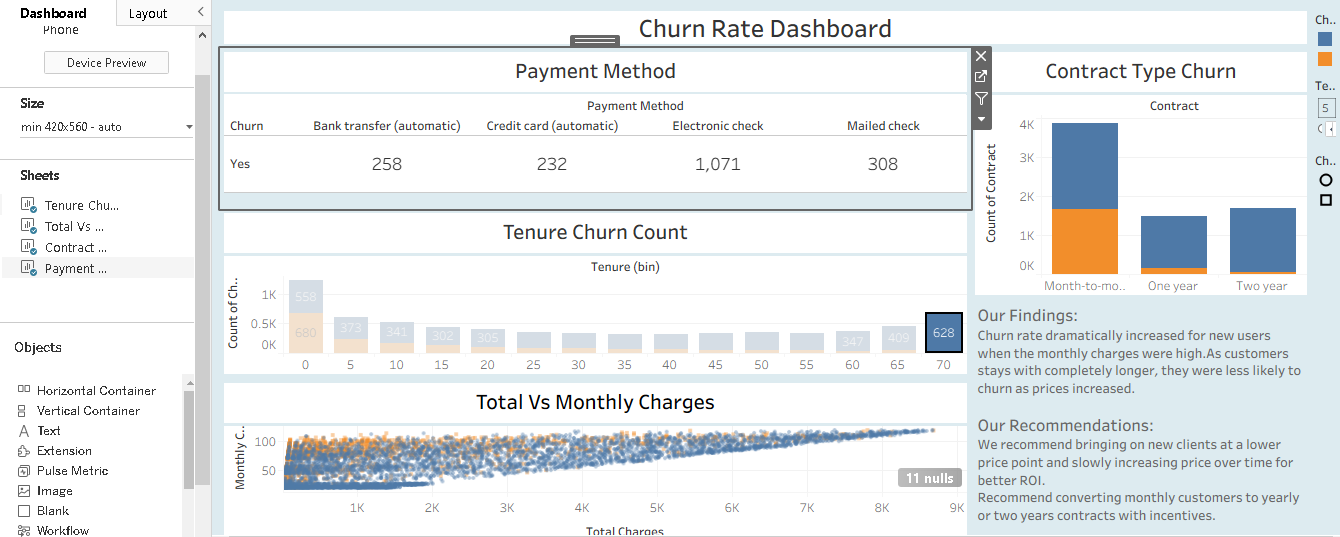

The dashboard page shown, as its layout file describes it:
{"tool":"tableau","page":{"name":"Churn Rate Dashboard","canvas":[1000,1000],"units":"permille","ordinal":0},"visuals":[{"type":"title","box":[10,14.3,939.8,73.2]},{"type":"legend","title":"Contract Type Churn","param":"[federated.07guqms1rf22l3104184n0olif7a].[none:Churn:nk]","box":[949.9,14.3,40.1,117.9]},{"type":"worksheet","title":"Payment Method","mark":"Automatic","rows":["Churn"],"cols":["PaymentMethod"],"box":[10,87.5,646.9,288.1]},{"type":"worksheet","title":"Contract Type Churn","mark":"Automatic","rows":["Contract"],"cols":["Contract"],"box":[657,87.5,292.9,449.1]},{"type":"parameter","param":"[Parameters].[Tenure (bin) Parameter]","box":[949.9,132.2,40.1,133.9]},{"type":"legend","title":"Total Vs Monthly Charges","param":"[federated.07guqms1rf22l3104184n0olif7a].[none:Churn:nk]","box":[949.9,266.1,40.1,117.9]},{"type":"worksheet","title":"Tenure Churn Count","mark":"Automatic","rows":["Churn"],"cols":["Tenure (bin)"],"box":[10,375.6,646.9,302.4]},{"type":"text","box":[657,536.6,292.9,449.1]},{"type":"worksheet","title":"Total Vs Monthly Charges","mark":"Automatic","rows":["MonthlyCharges"],"cols":["TotalCharges"],"box":[10,678,646.9,307.8]}]}

Visuals, with their boxes on the dashboard's canvas, which has no fixed pixel size, in thousandths of its width and height (x1, y1, x2, y2). These are canvas units, not pixel positions in the 1340x537 screenshot, which may show the page scaled, cropped or inside an application window:
title: box=[10, 14, 950, 88]
"Contract Type Churn" legend: box=[950, 14, 990, 132]
"Payment Method" worksheet: box=[10, 88, 657, 376]
"Contract Type Churn" worksheet: box=[657, 88, 950, 537]
parameter: box=[950, 132, 990, 266]
"Total Vs Monthly Charges" legend: box=[950, 266, 990, 384]
"Tenure Churn Count" worksheet: box=[10, 376, 657, 678]
text: box=[657, 537, 950, 986]
"Total Vs Monthly Charges" worksheet: box=[10, 678, 657, 986]
